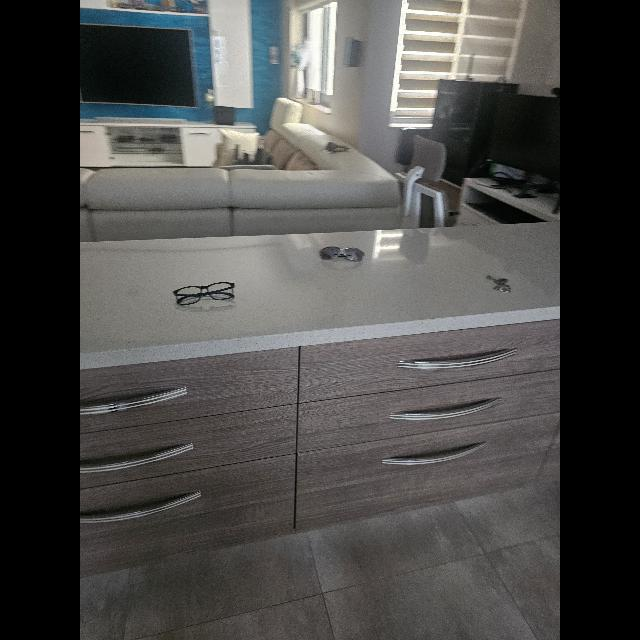Sunglasses: (320, 246, 364, 262)
glasses: (173, 282, 235, 306)
